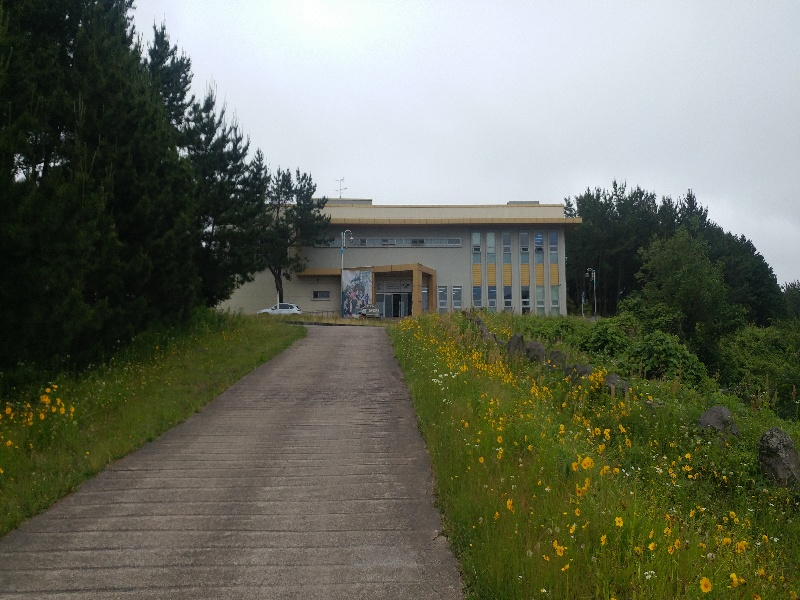Military Education Unit: (229, 202, 573, 324)
